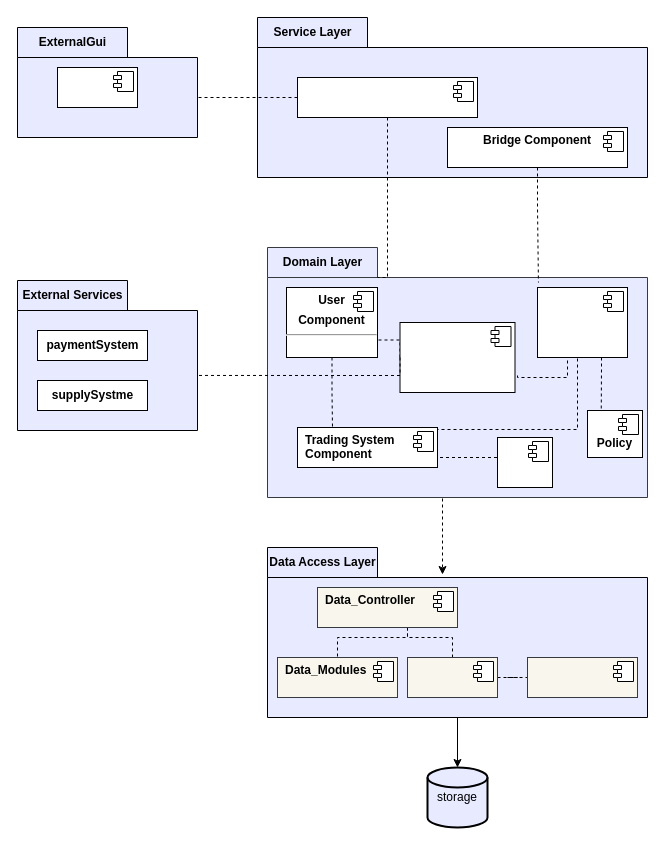
The diagram is 665 pixels wide and 846 high, and some of its shapes have lost their labels. The shapes that lost their labels are listed below. From the top down, each one's centre as x and y in pixels, then its label:
At pixel 97 87: "Gui".
At pixel 387 97: "ServiceApi Component".
At pixel 582 322: "Store Component".
At pixel 457 357: "Shopping Component".
At pixel 524 462: "Spelling".
At pixel 452 677: "Services".
At pixel 582 677: "Repositories".
